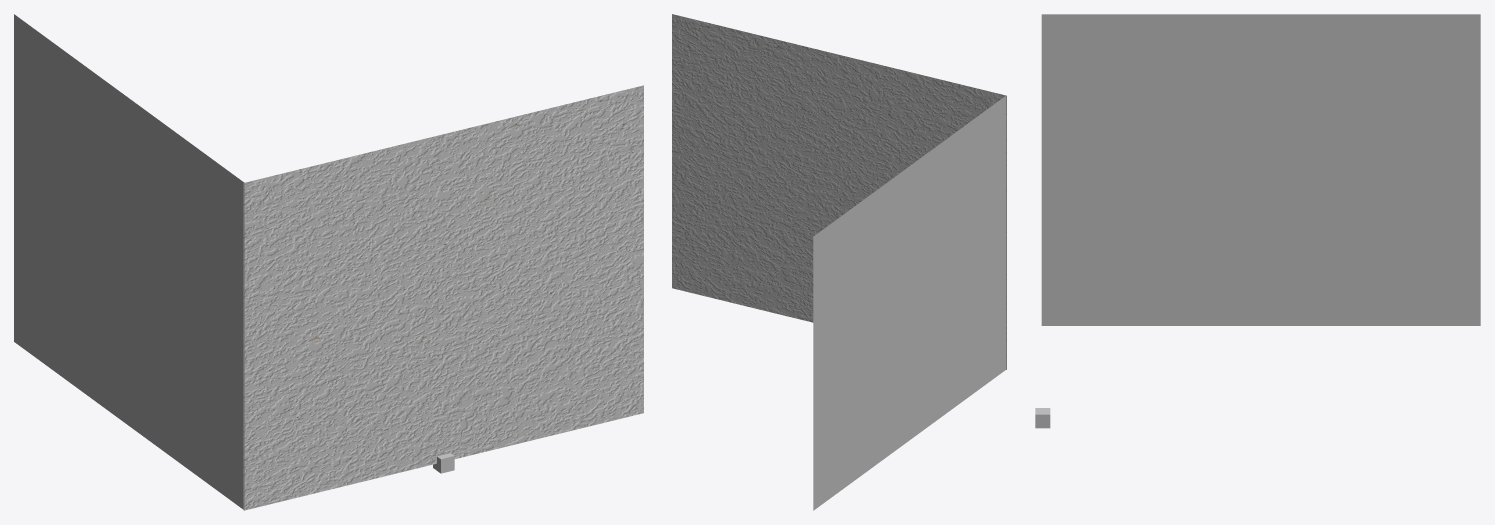
The model's file is peretiCamera.obj.
3 renders of one model, left to right at view 1: azimuth 30°, elevation 25°; view 2: azimuth 150°, elevation 25°; view 3: azimuth 270°, elevation 25°, orthographic. The views are drawn at different scales.
Visible parts, largest first — view 1: Plane.001, Plane.002; view 2: Plane.001, Plane.002; view 3: Plane.002.
Boxes of the visible parts, bbox=[...] form: Plane.001: bbox=[243, 85, 643, 510]; Plane.002: bbox=[14, 14, 244, 510]; Plane.001: bbox=[672, 14, 1006, 369]; Plane.002: bbox=[813, 95, 1006, 510]; Plane.002: bbox=[1041, 14, 1480, 325].
Bounding box in the file's own units: 58.27 × 46.59 × 59.13.
3 materials, 1 textured.
